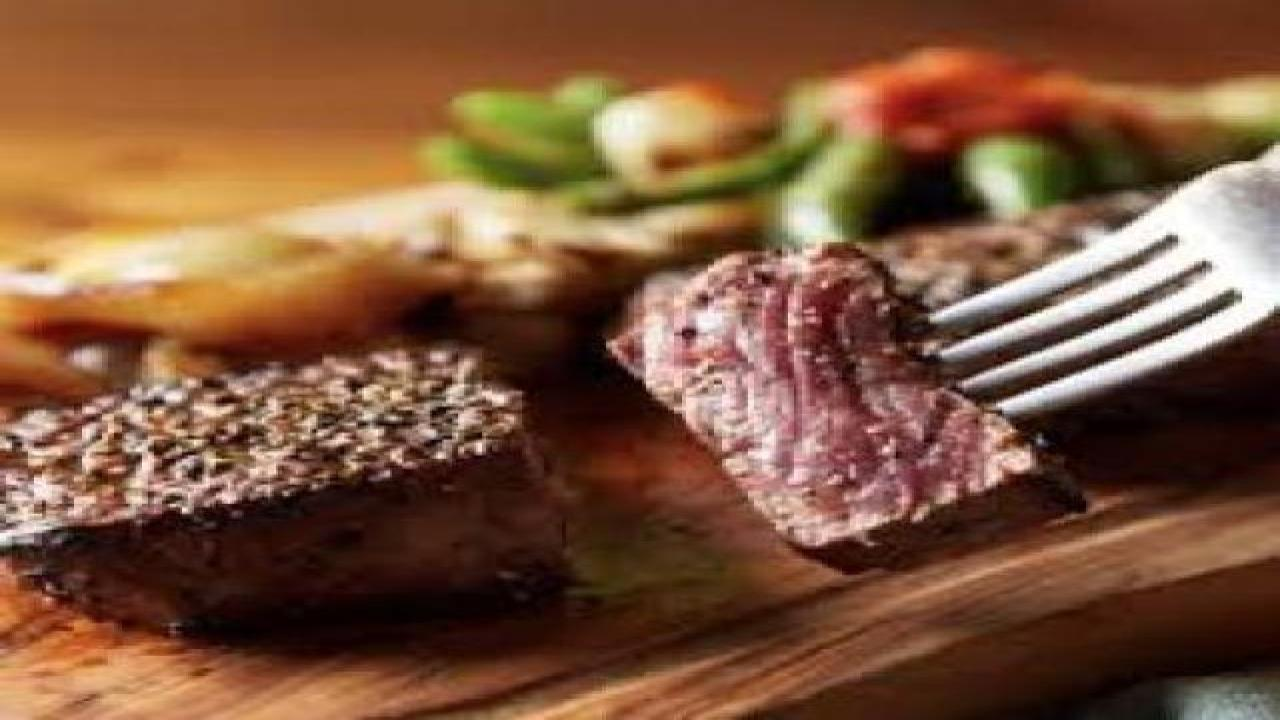Carne: (48, 362, 637, 611), (630, 228, 1049, 544)
